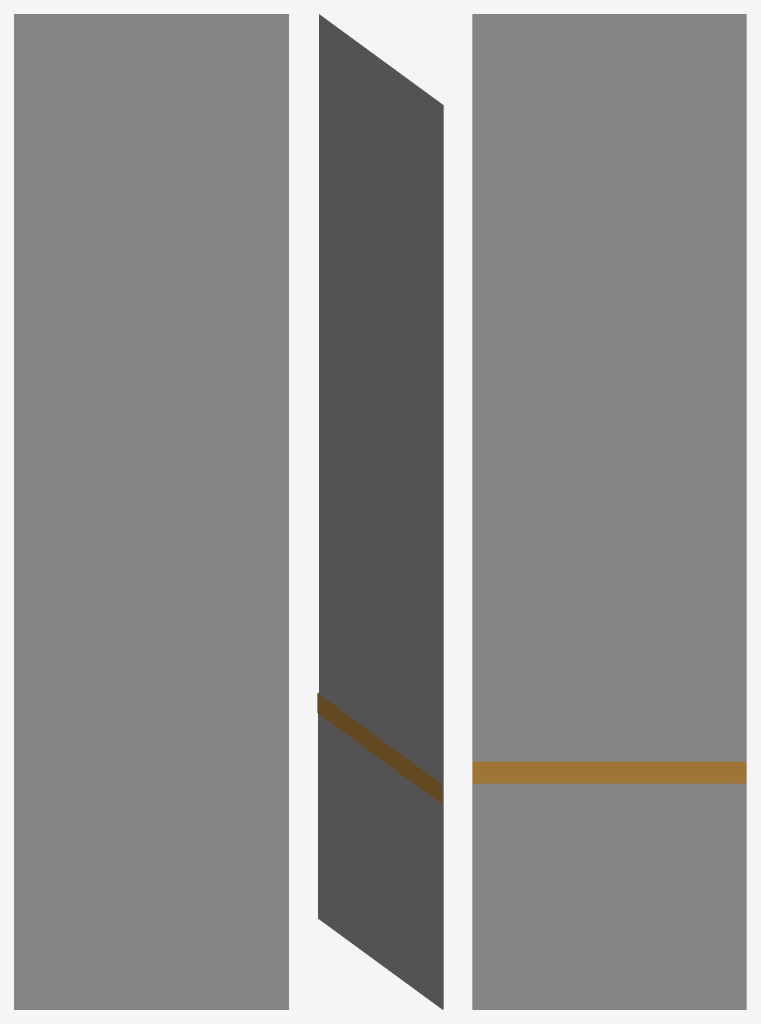
File: SM_Modular_Wall_2x8.fbx
3 views of the same model, side by side, from view 1: azimuth 90°, elevation 25°; view 2: azimuth 210°, elevation 25°; view 3: azimuth 270°, elevation 25° (orthographic). The views are drawn at different scales.
Parts seen in each view (by area): view 1: Modular_Wall_2x8; view 2: Modular_Wall_2x8; view 3: Modular_Wall_2x8.
Boxes of the visible parts, left/top/right/bottom form: Modular_Wall_2x8: left=14, top=14, right=288, bottom=1009; Modular_Wall_2x8: left=317, top=14, right=443, bottom=1009; Modular_Wall_2x8: left=472, top=14, right=746, bottom=1009.
Size of the model in its own units: 1.71 by 800 by 200.
